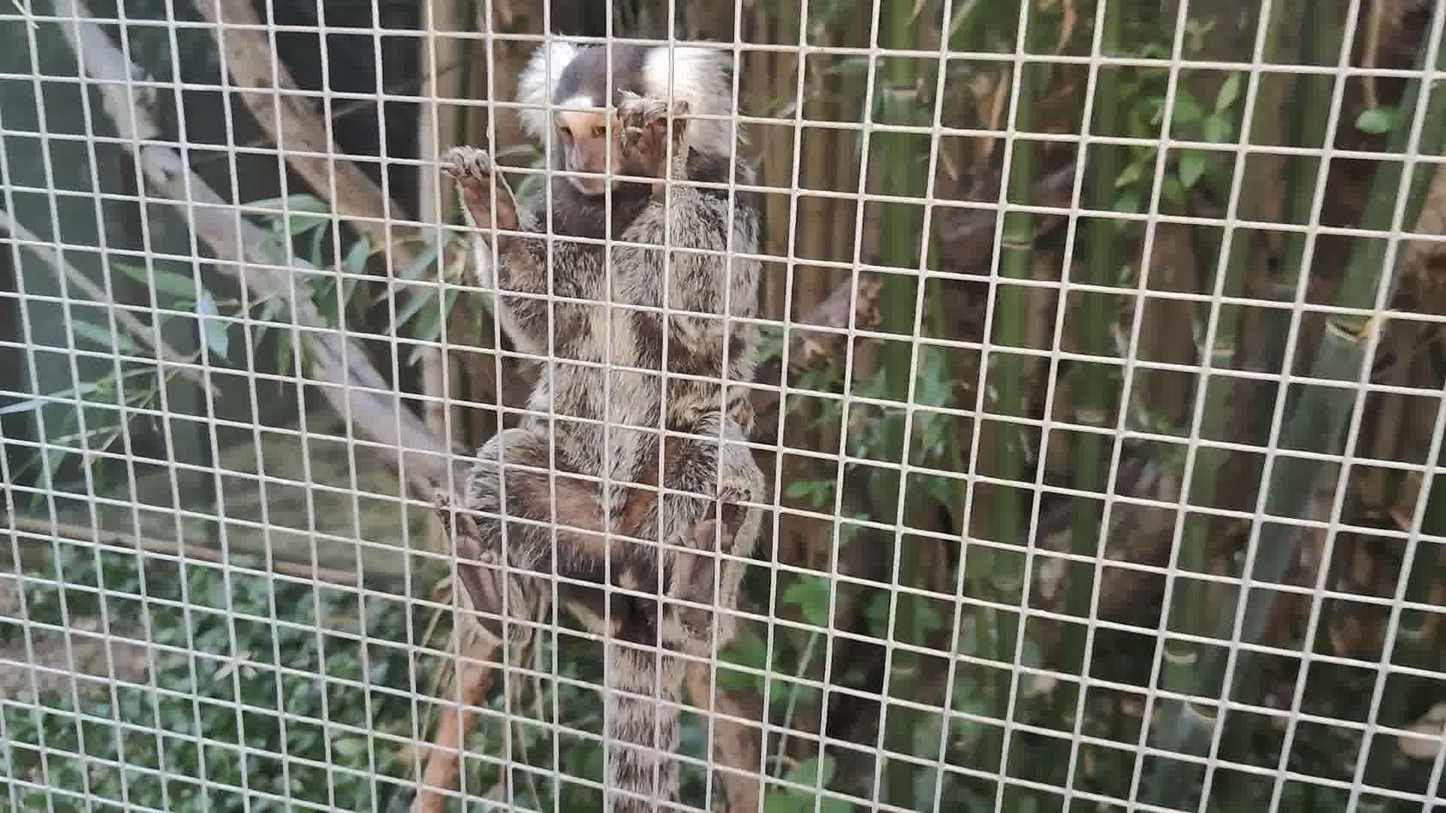boar: (431, 34, 766, 813)
